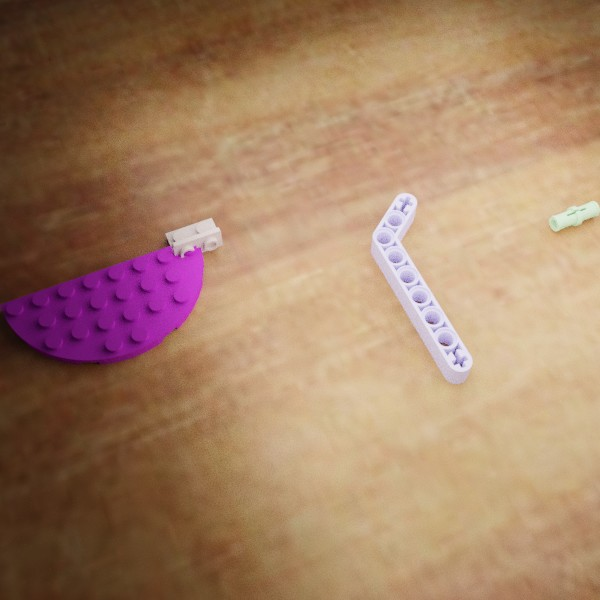lego: (0, 236, 203, 364), (370, 193, 472, 384), (165, 217, 222, 261), (548, 200, 600, 231)
